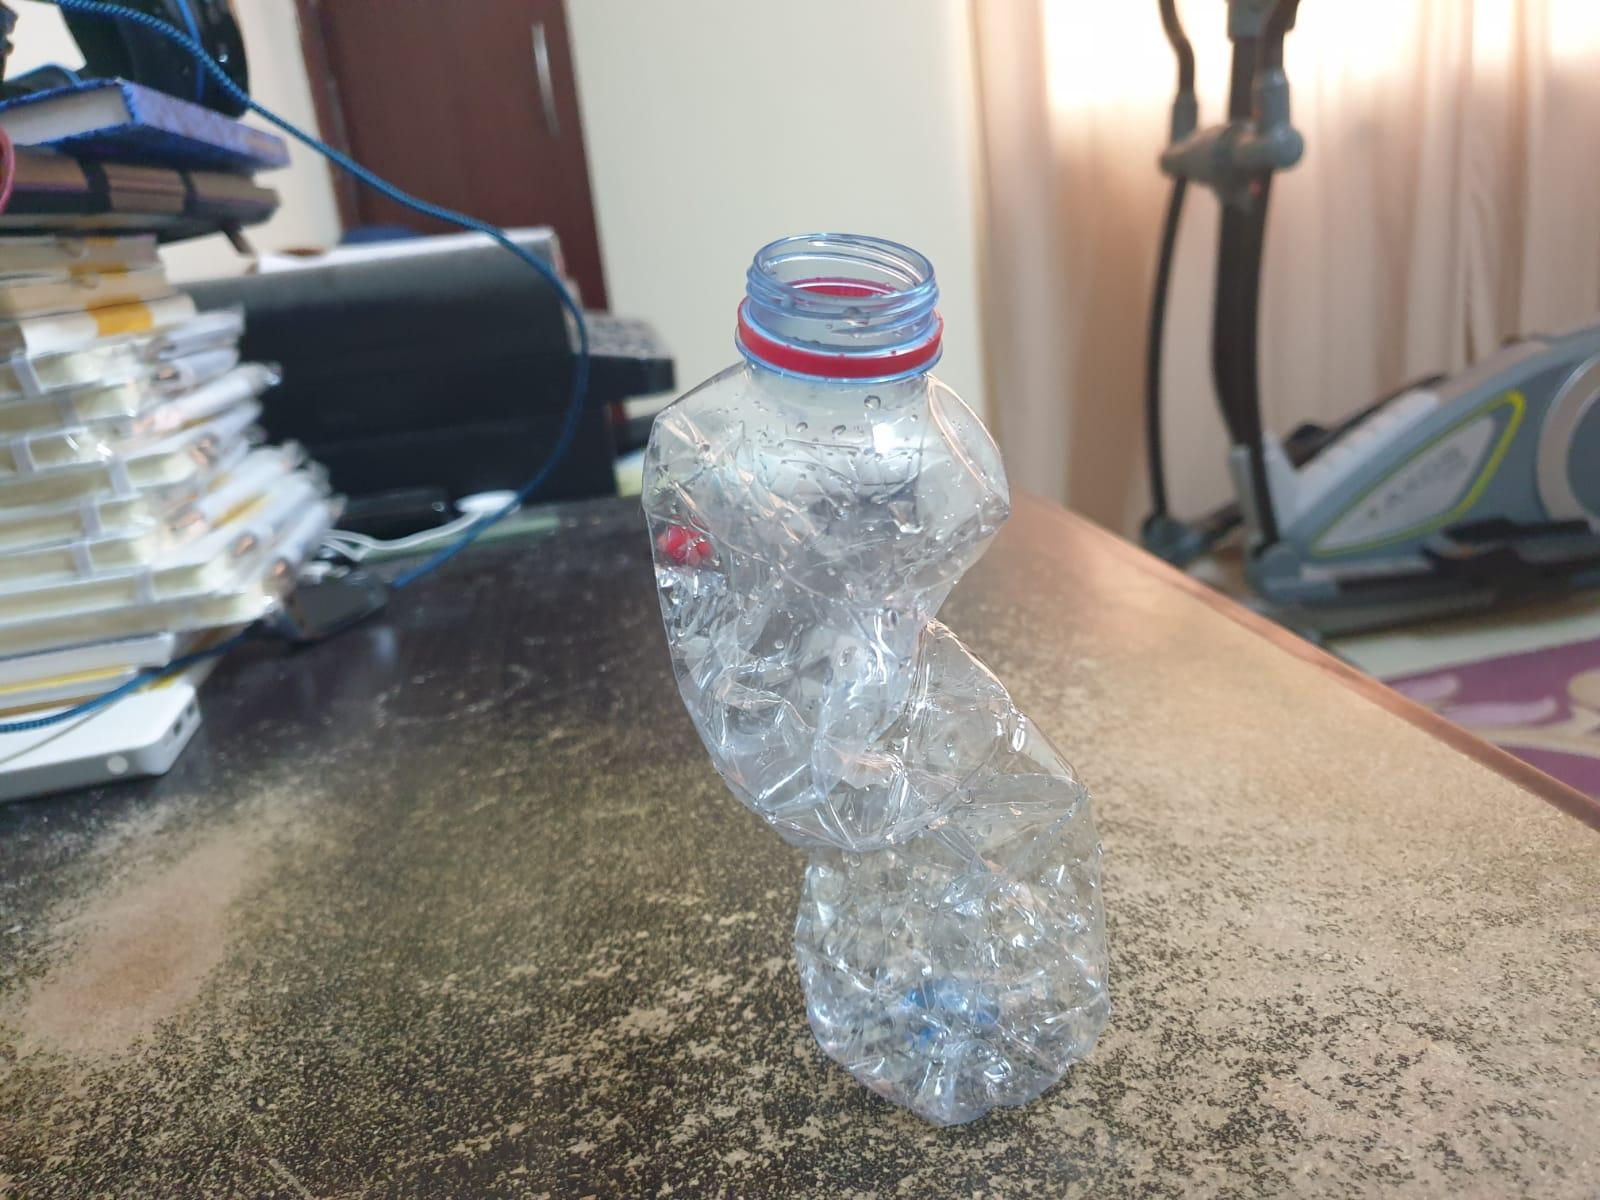bottle: (645, 221, 1117, 1131)
